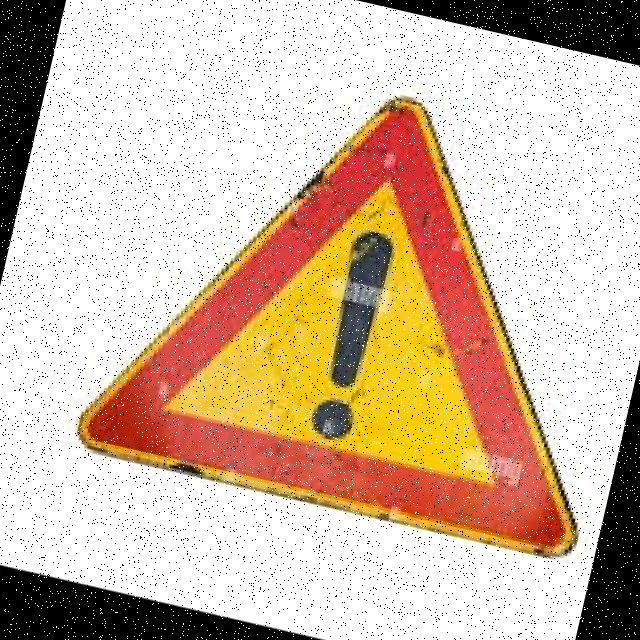warning: (70, 29, 640, 576)
